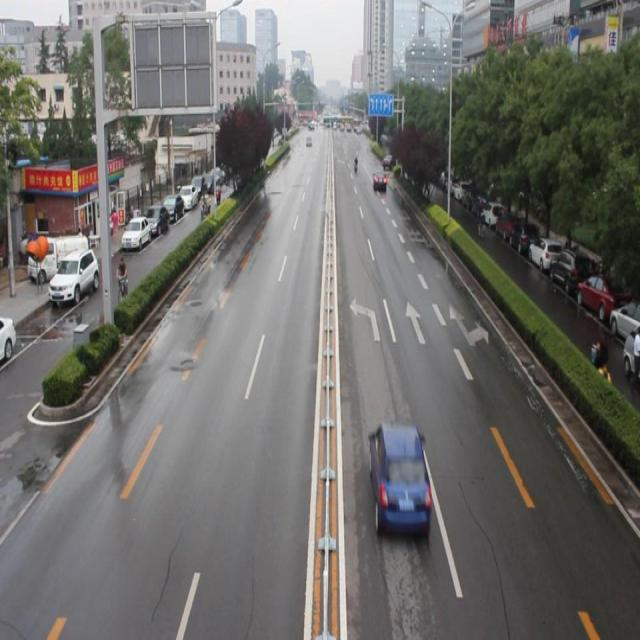car: (366, 422, 431, 536), (371, 170, 387, 188)
